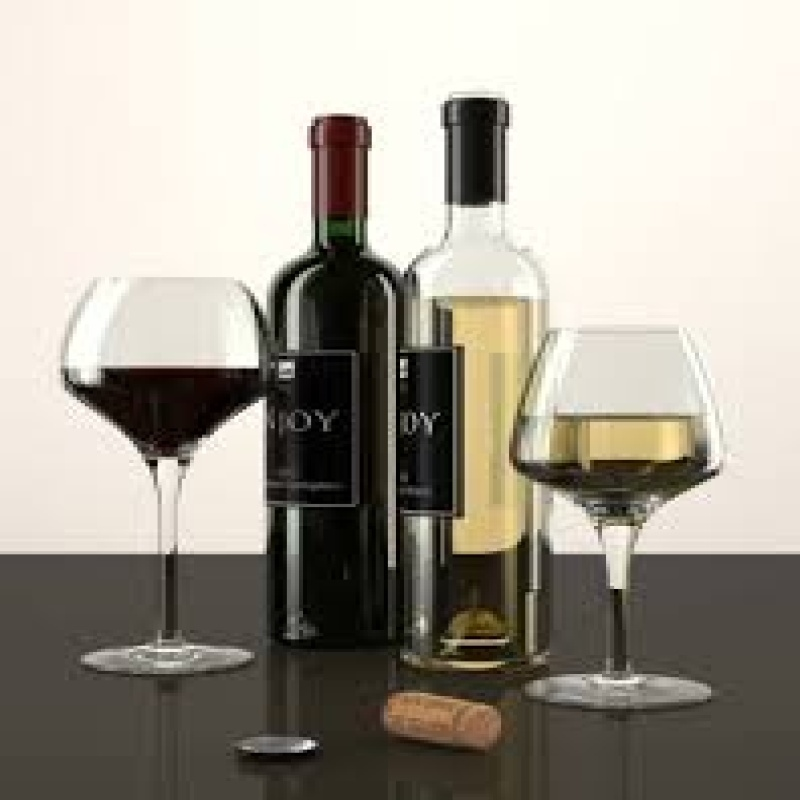wine: (399, 113, 550, 663), (269, 120, 391, 644)
